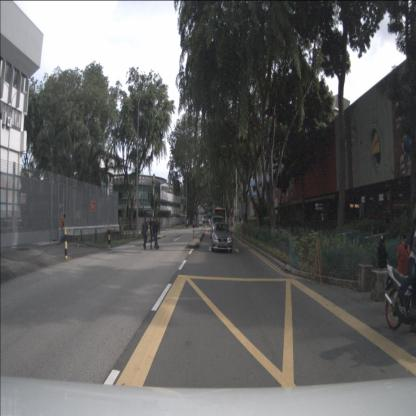human-pedestrian-adult: (393, 230, 416, 304), (377, 233, 394, 293), (150, 216, 158, 250), (141, 218, 149, 250), (153, 215, 160, 249), (60, 214, 66, 243), (149, 218, 153, 240), (157, 218, 161, 235), (186, 218, 188, 229)
vehicle-bus-rigid: (213, 208, 226, 231)
vehicle-car: (211, 222, 233, 254), (211, 215, 224, 239), (192, 218, 200, 228), (209, 218, 215, 227), (198, 219, 203, 226)
vehicle-motorcycle: (384, 225, 416, 334)
